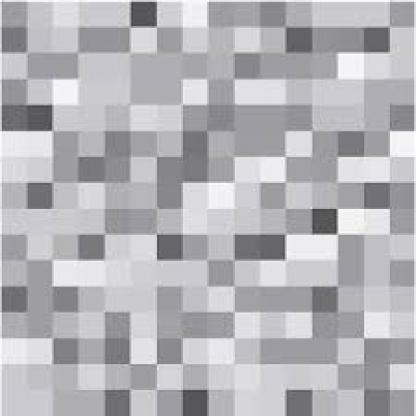Igneous_Diorite: (7, 6, 414, 414)
